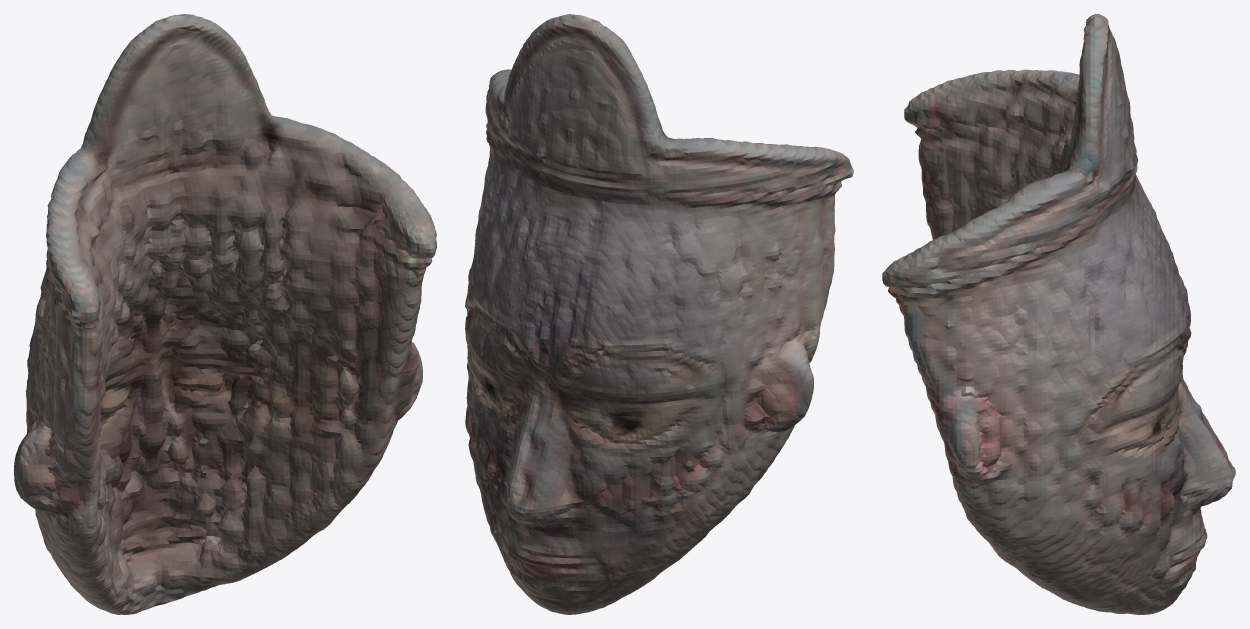
The model's file is masque.glb.
3 views of the same model, side by side, from view 1: azimuth 30°, elevation 25°; view 2: azimuth 150°, elevation 25°; view 3: azimuth 270°, elevation 25° (orthographic). The views are drawn at different scales.
Visible parts, largest first — view 1: world; view 2: world; view 3: world.
Part boxes in pixels (box(x1,y1,x2,y2)): world: box(14, 14, 436, 614); world: box(465, 14, 853, 614); world: box(882, 14, 1235, 614).
Size of the model in its own units: 0.6564 by 1 by 0.5421.
